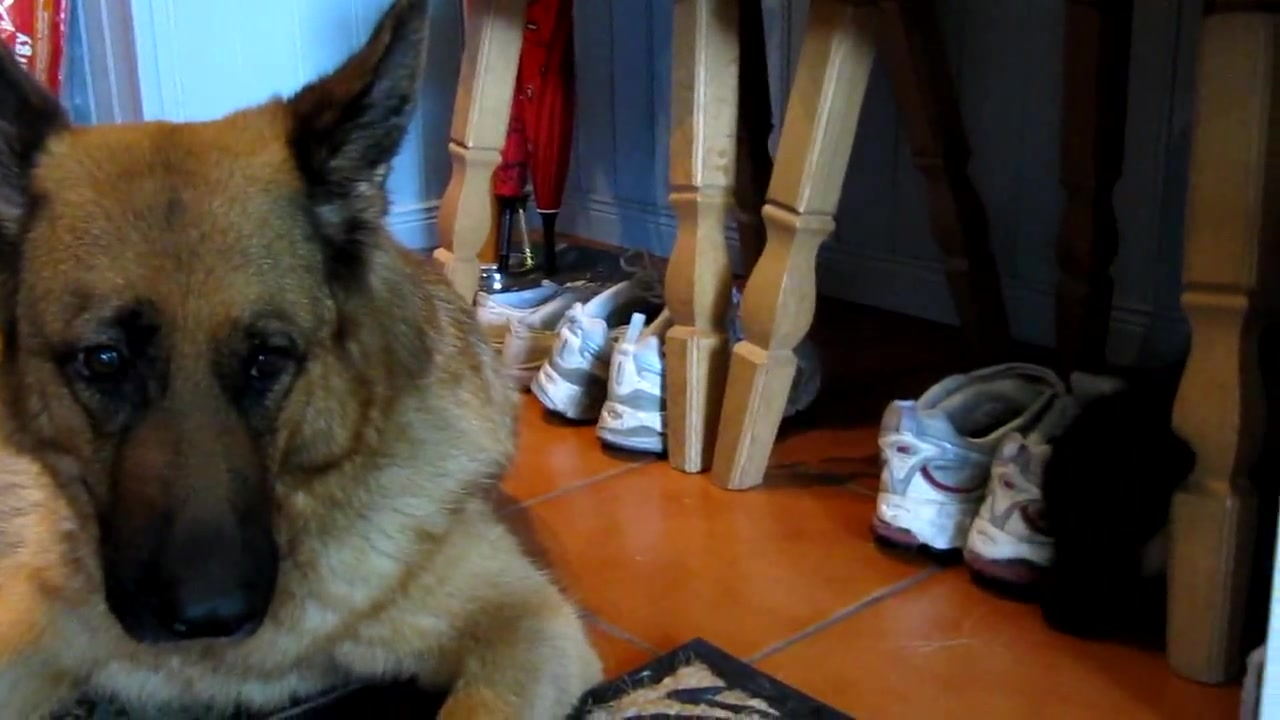dog: (2, 1, 611, 719)
